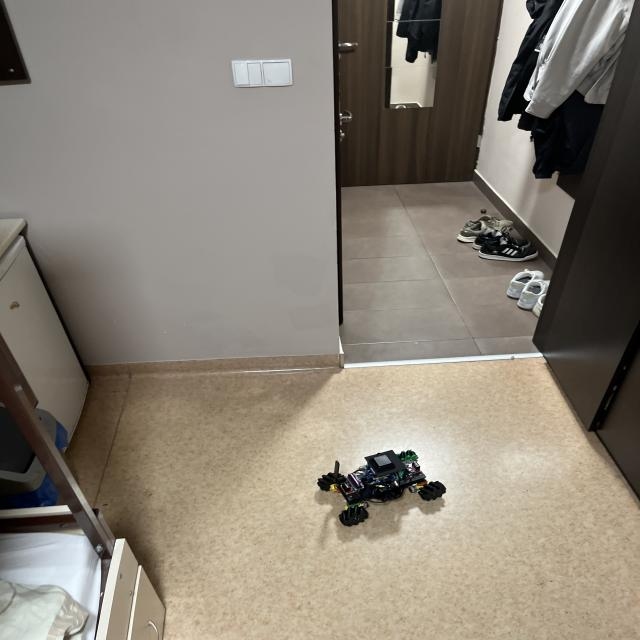robot: (317, 450, 445, 526)
